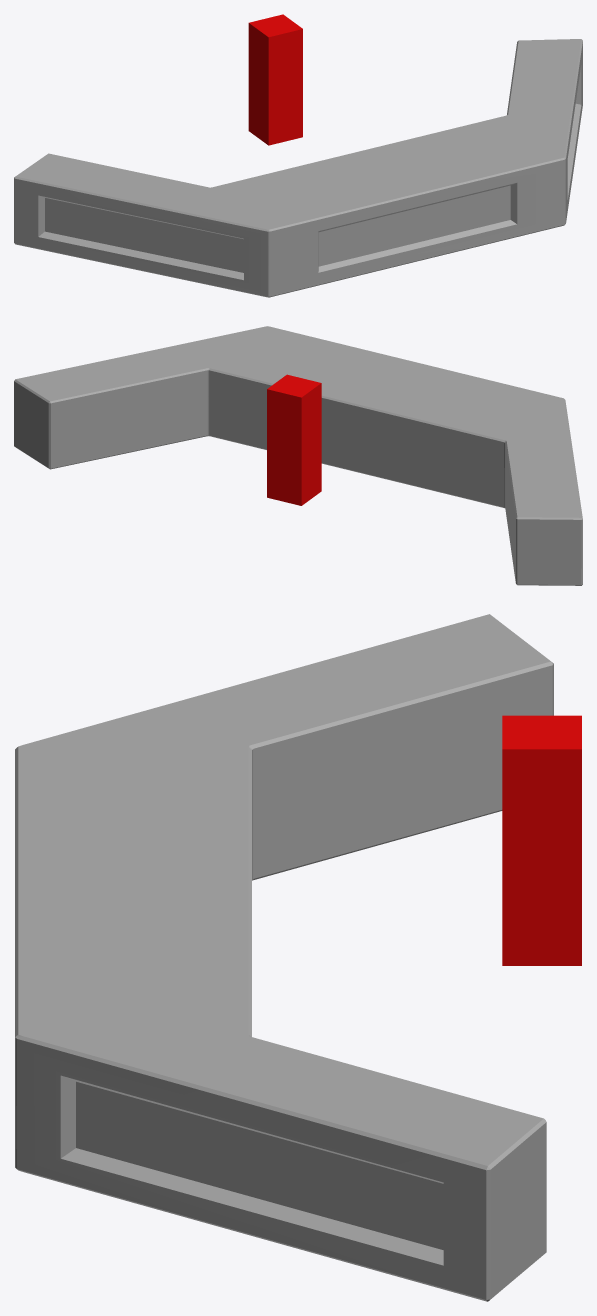
File: Comptoir.fbx
The picture shows the model from 3 angles, top to bottom: view 1: azimuth 30°, elevation 25°; view 2: azimuth 150°, elevation 25°; view 3: azimuth 270°, elevation 25°; orthographic projection. The views are drawn at different scales.
Visible parts, largest first — view 1: Comptoir2, Humain; view 2: Comptoir2, Humain; view 3: Comptoir2, Humain.
Boxes of the visible parts, box(x1,y1,x2,y2) form: Comptoir2: box(14, 39, 582, 297); Humain: box(248, 14, 302, 145); Comptoir2: box(14, 326, 582, 585); Humain: box(267, 374, 321, 505); Comptoir2: box(15, 614, 553, 1301); Humain: box(502, 715, 581, 965).
Bounding box in the file's own units: 988 × 236 × 427.
